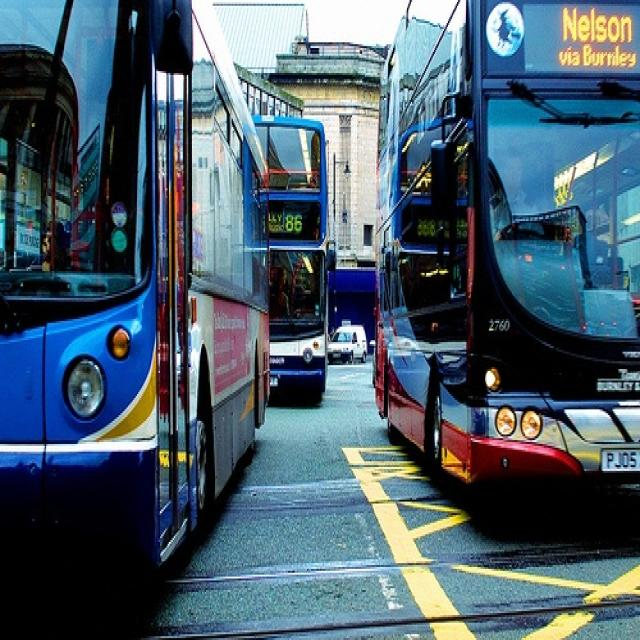bus: (1, 3, 270, 566), (373, 1, 639, 485), (252, 112, 336, 401)
car: (329, 326, 370, 360)
